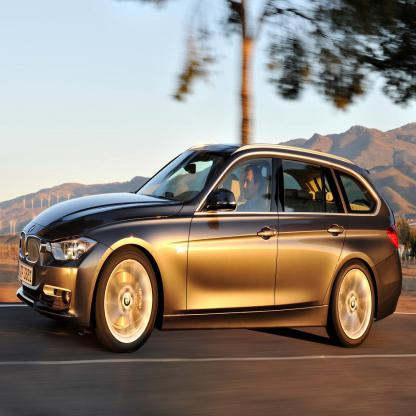Vehicle: (17, 141, 404, 356)
